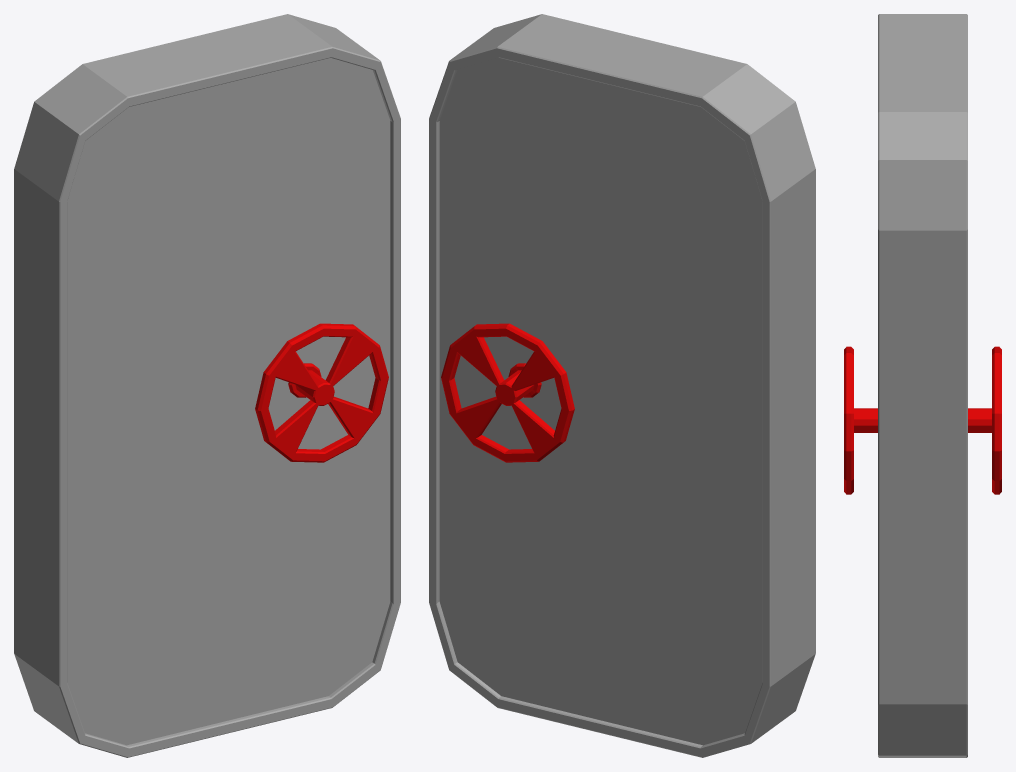
File: Doublesided_Door_V2 (2).fbx
3 renders of one model, left to right at view 1: azimuth 30°, elevation 25°; view 2: azimuth 150°, elevation 25°; view 3: azimuth 270°, elevation 25°, orthographic. The views are drawn at different scales.
Visible parts, largest first — view 1: Doublesided_Door_V2; view 2: Doublesided_Door_V2; view 3: Doublesided_Door_V2.
Part boxes in pixels (left/top/right/bottom): Doublesided_Door_V2: left=14, top=14, right=400, bottom=757; Doublesided_Door_V2: left=429, top=14, right=815, bottom=757; Doublesided_Door_V2: left=844, top=14, right=1001, bottom=757.
Bounding box in the file's own units: 487 × 900 × 199.
